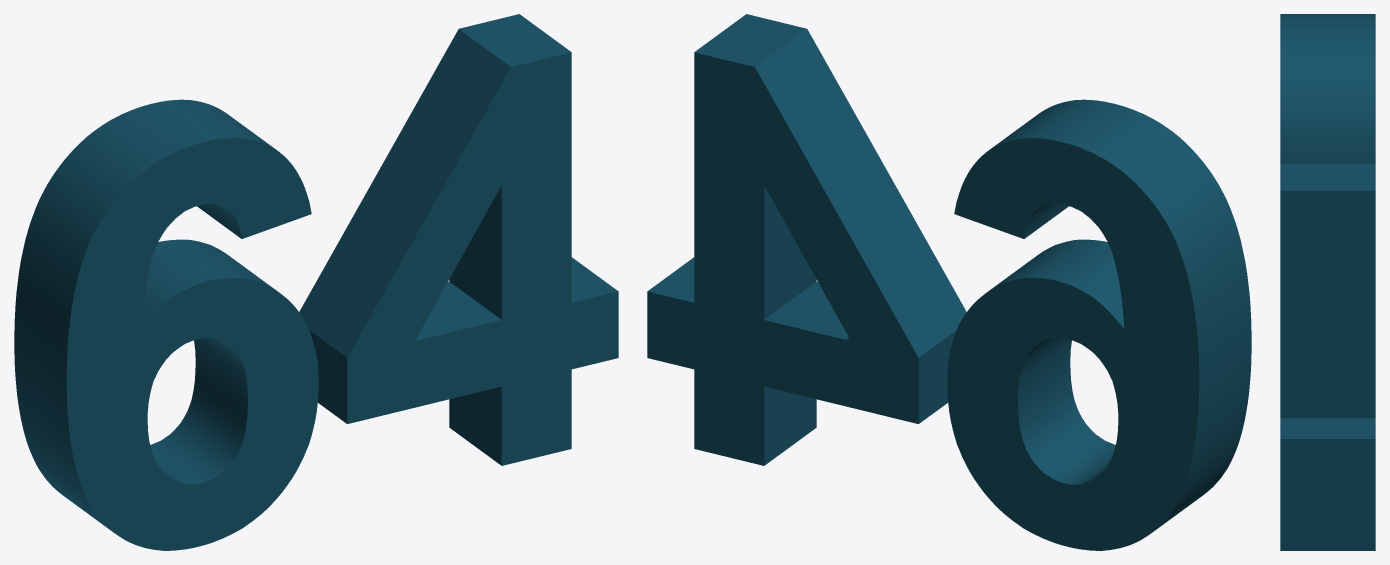
File: item_64.glb
The picture shows the model from 3 angles, left to right: view 1: azimuth 30°, elevation 25°; view 2: azimuth 150°, elevation 25°; view 3: azimuth 270°, elevation 25°; orthographic projection. The views are drawn at different scales.
Parts seen in each view (by area): view 1: Text; view 2: Text; view 3: Text.
Boxes of the visible parts, x1=… form: Text: x1=14, y1=14, x2=618, y2=550; Text: x1=647, y1=14, x2=1251, y2=550; Text: x1=1280, y1=14, x2=1375, y2=550.
Bounding box in the file's own units: 0.731 × 0.5104 × 0.12.
